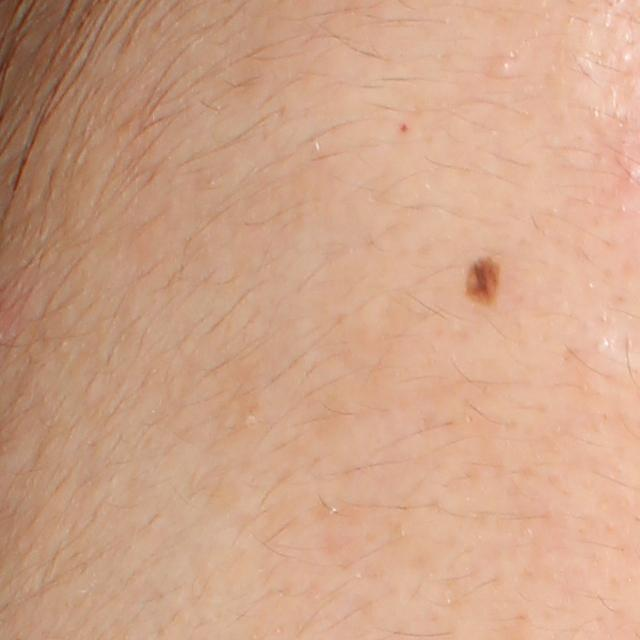comedo: (487, 51, 521, 78)
nevus: (461, 254, 504, 309)
